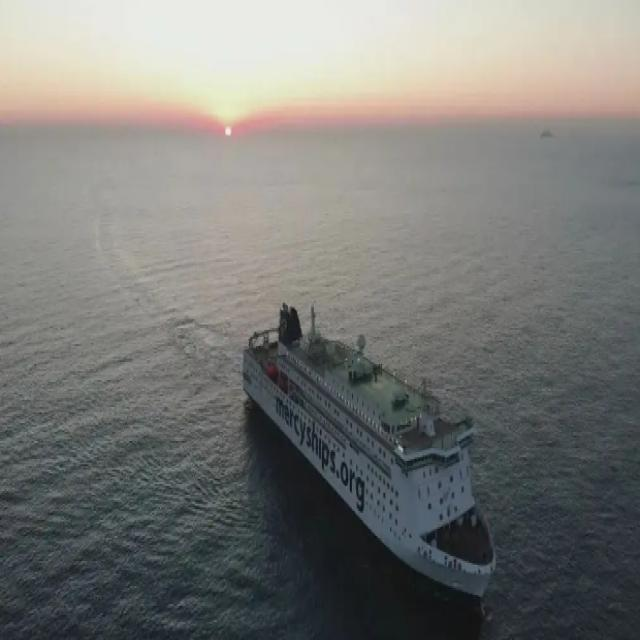passenger ship: (239, 275, 496, 605)
